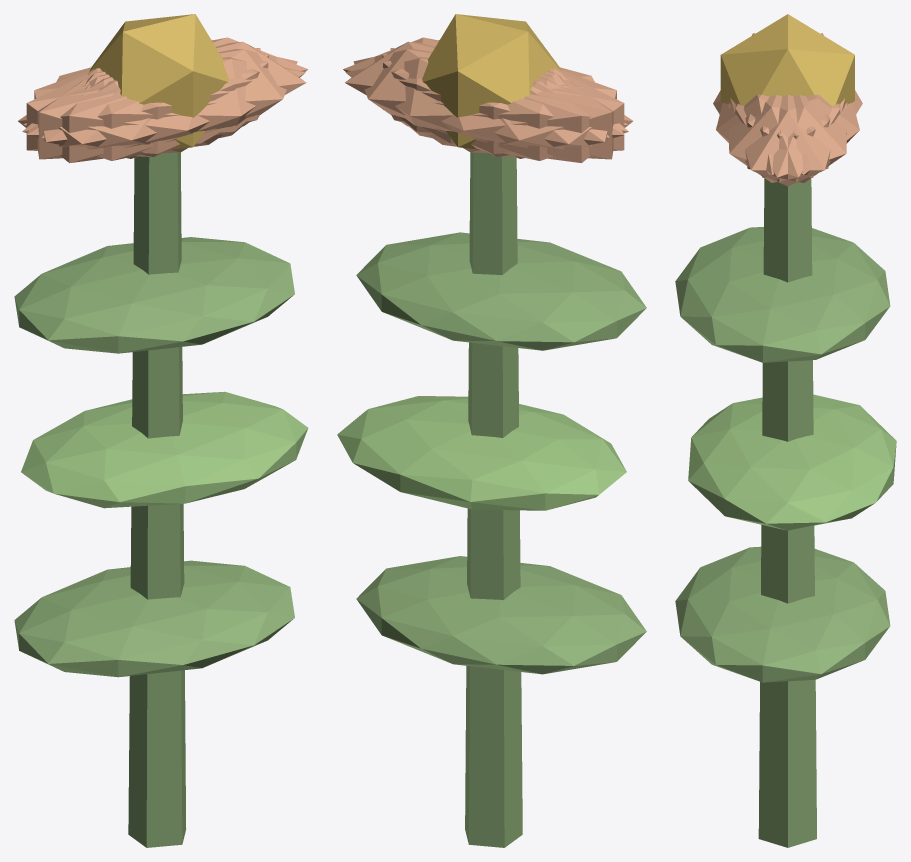
The model's file is causonis-trifolia.glb.
3 renders of one model, left to right at view 1: azimuth 30°, elevation 25°; view 2: azimuth 150°, elevation 25°; view 3: azimuth 270°, elevation 25°, orthographic.
Visible parts, largest first — view 1: stem, leaf2, leaf0, leaf1, center, petal1, petal6, petal2, petal5, petal7, petal0, petal4 (+2 smaller); view 2: stem, leaf2, leaf1, leaf0, center, petal8, petal3, petal7, petal4, petal2, petal0, petal5 (+2 smaller); view 3: stem, leaf2, leaf1, leaf0, center, petal0, petal4, petal5, petal8, petal1.
Part boxes in pixels (box(x1,y1,x2,y2)): stem: box(128, 152, 186, 847); leaf2: box(14, 237, 294, 353); leaf0: box(14, 560, 294, 677); leaf1: box(21, 391, 308, 508); center: box(89, 14, 228, 149); petal1: box(22, 57, 305, 160); petal6: box(18, 69, 222, 163); petal2: box(37, 48, 260, 159); petal5: box(41, 49, 297, 153); petal7: box(26, 54, 268, 156); petal0: box(89, 41, 306, 143); petal4: box(23, 37, 307, 135); stem: box(465, 152, 522, 847); leaf2: box(356, 232, 646, 350); leaf1: box(337, 396, 626, 510); leaf0: box(356, 556, 646, 674); center: box(422, 14, 561, 149); petal8: box(345, 57, 628, 160); petal3: box(428, 69, 632, 163); petal7: box(390, 48, 613, 159); petal4: box(353, 49, 609, 153); petal2: box(382, 54, 624, 156); petal0: box(345, 41, 561, 143); petal5: box(343, 37, 627, 135); stem: box(758, 178, 816, 847); leaf2: box(675, 227, 890, 362); leaf1: box(688, 394, 896, 530); leaf0: box(675, 546, 890, 682); center: box(720, 14, 854, 105); petal0: box(730, 95, 845, 186); petal4: box(735, 95, 847, 182); petal5: box(728, 95, 840, 182); petal8: box(745, 94, 859, 174); petal1: box(716, 94, 830, 174).
Size of the model in its own units: 0.1452 by 0.4046 by 0.101.
